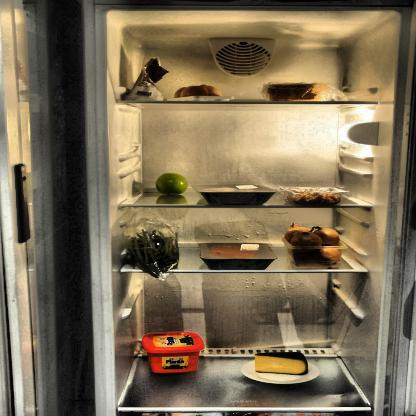apple: (155, 172, 189, 200)
beef: (204, 242, 269, 266)
butter: (141, 330, 204, 376)
cheese: (254, 352, 308, 378)
eggs: (176, 84, 224, 101)
green_beans: (124, 227, 183, 275)
onion: (282, 226, 348, 268)
shrimp: (287, 188, 344, 206)
